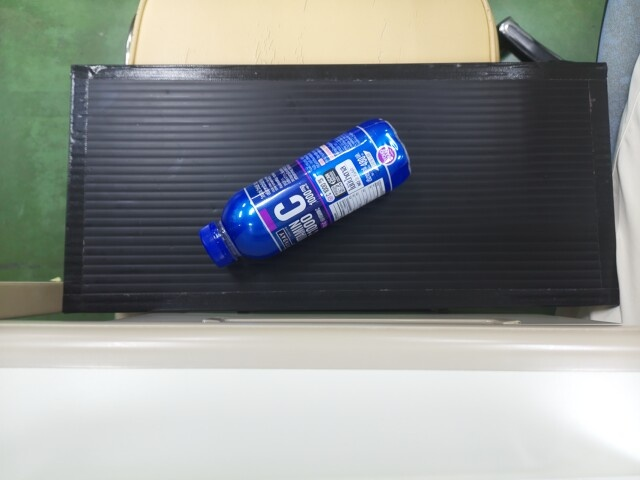plastic_bottle: (198, 120, 413, 267)
